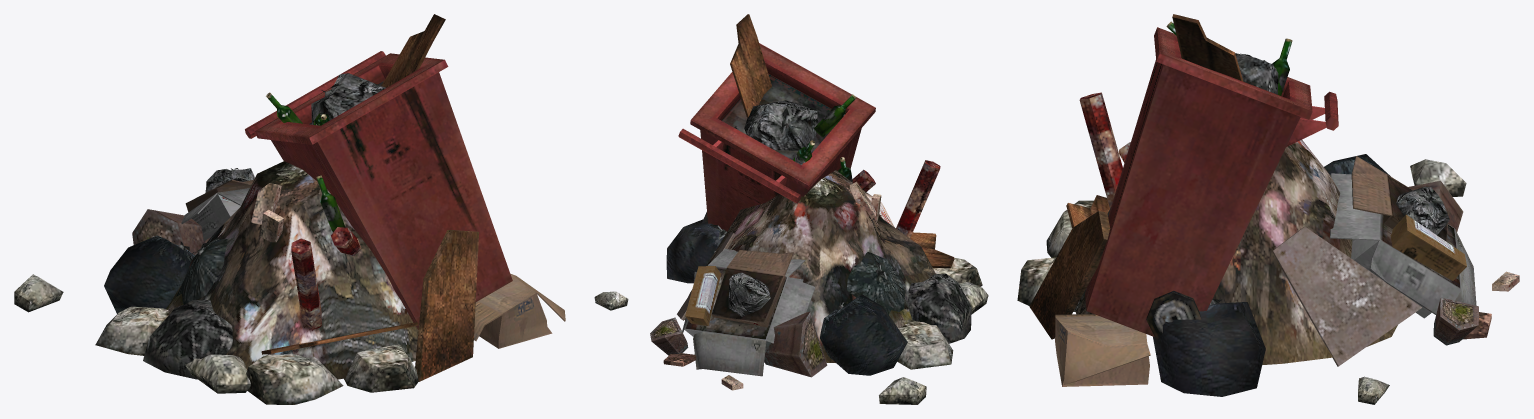
Rendered from Prop_Garbage01.glb.
3 renders of one model, left to right at view 1: azimuth 30°, elevation 25°; view 2: azimuth 150°, elevation 25°; view 3: azimuth 270°, elevation 25°, orthographic. The views are drawn at different scales.
Parts seen in each view (by area): view 1: garbage01; view 2: garbage01; view 3: garbage01.
Boxes of the visible parts, x1,y1,x2,y2 form: garbage01: (14, 14, 565, 404); garbage01: (594, 14, 988, 404); garbage01: (1017, 14, 1519, 404).
Size of the model in its own units: 4.71 by 3.43 by 4.4.
Materials: 1 (1 with a texture image).
